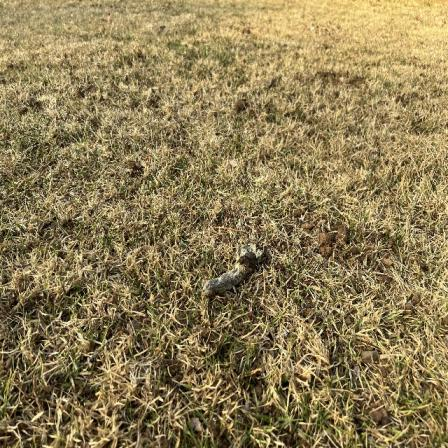dog-poop: (194, 240, 274, 305)
